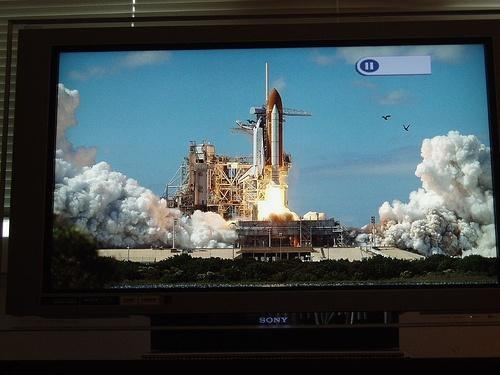tvmonitor: (3, 16, 500, 357)
